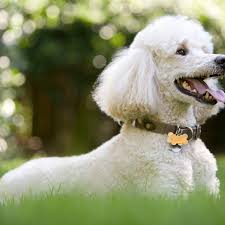Poodle: (16, 9, 225, 212)
